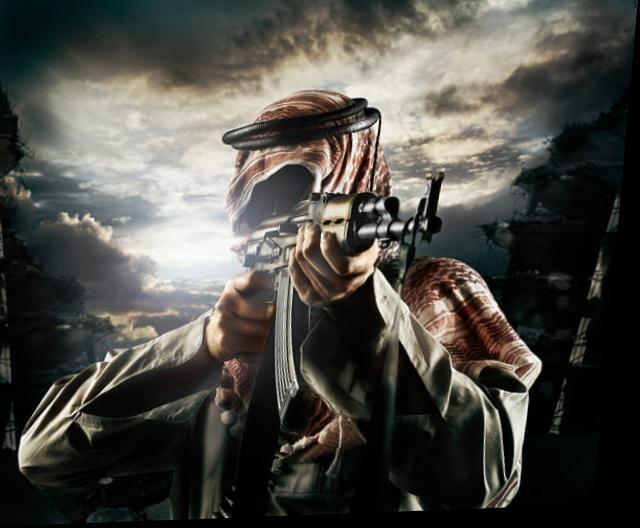other: (114, 96, 539, 506)
